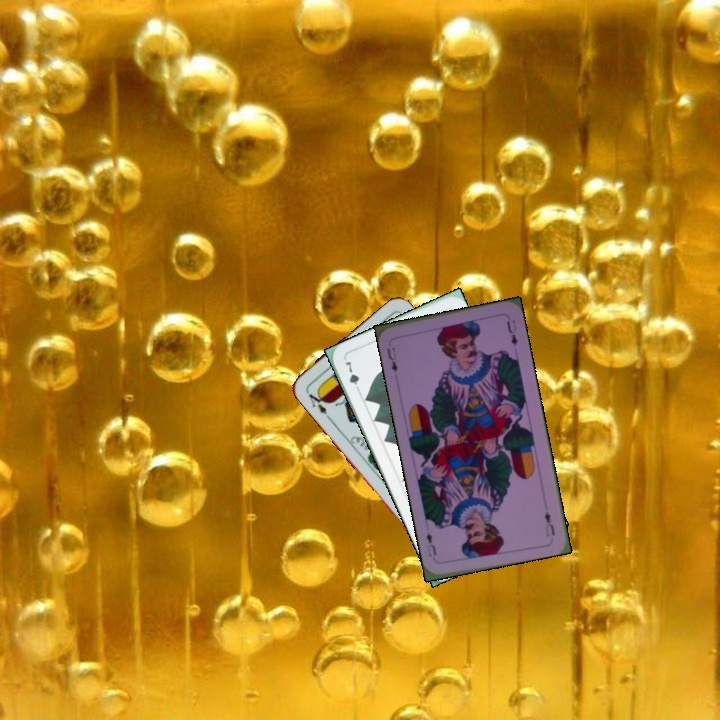EA: (302, 387, 333, 422)
EU: (540, 508, 558, 539), (383, 343, 400, 375)
G7: (341, 357, 363, 395)
